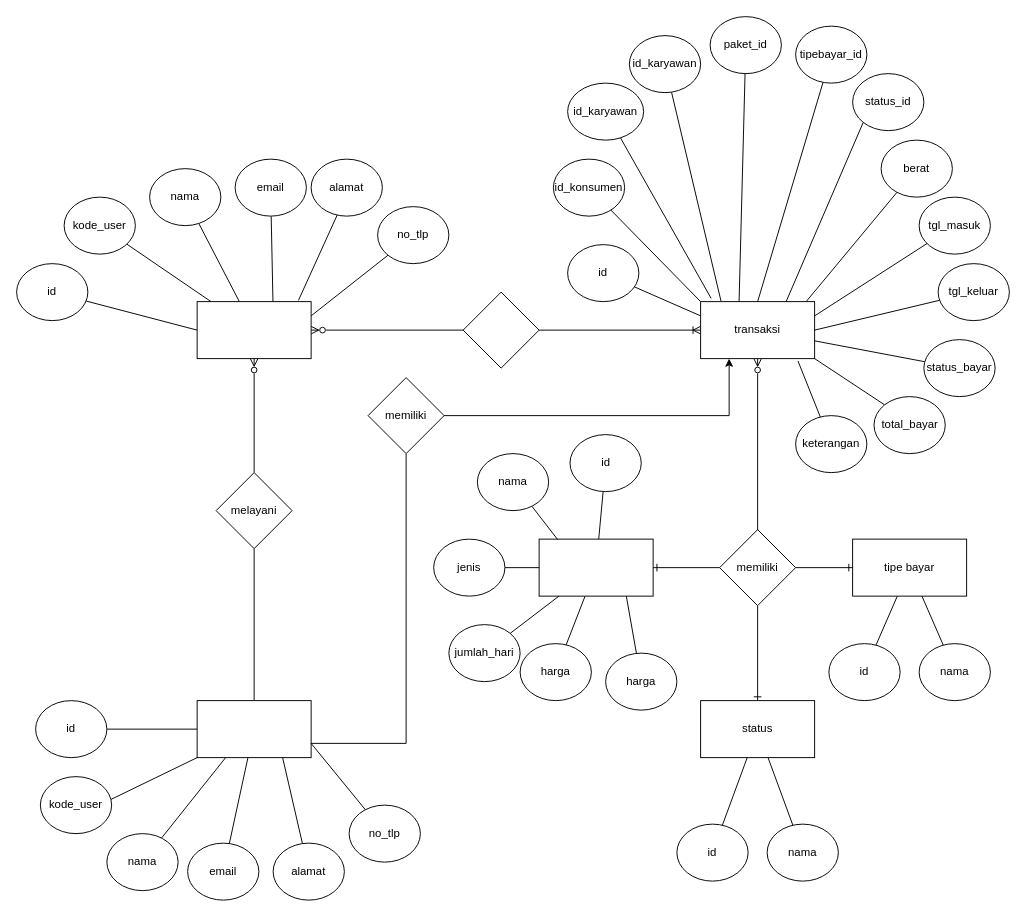
The diagram is 1026 pixels wide and 917 high, and some of its shapes have lost their labels. The centre of each missing label's shape, as x and y in pixels:
"konsumen" belongs at point (253, 330).
"melakukan" belongs at point (500, 329).
"paket" belongs at point (595, 567).
"petugas" belongs at point (253, 729).
